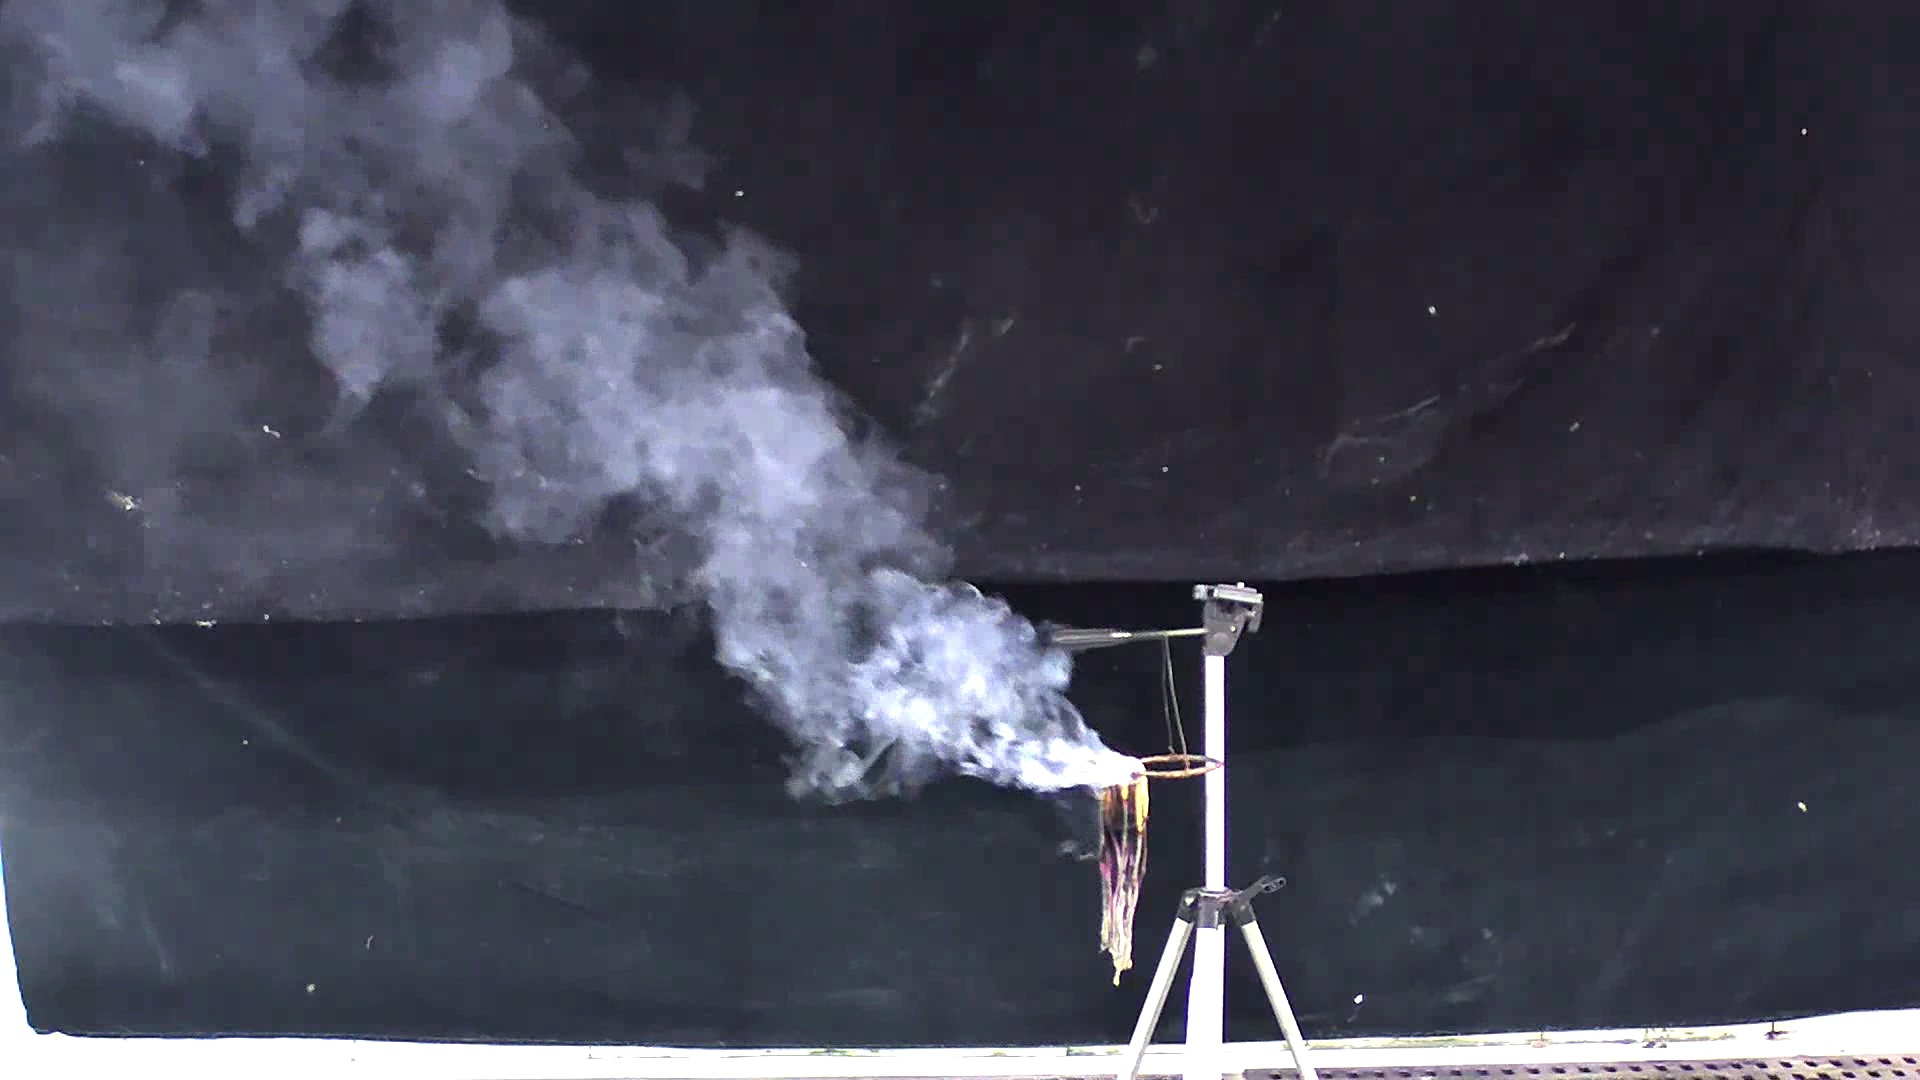smoke: (276, 32, 1106, 807)
